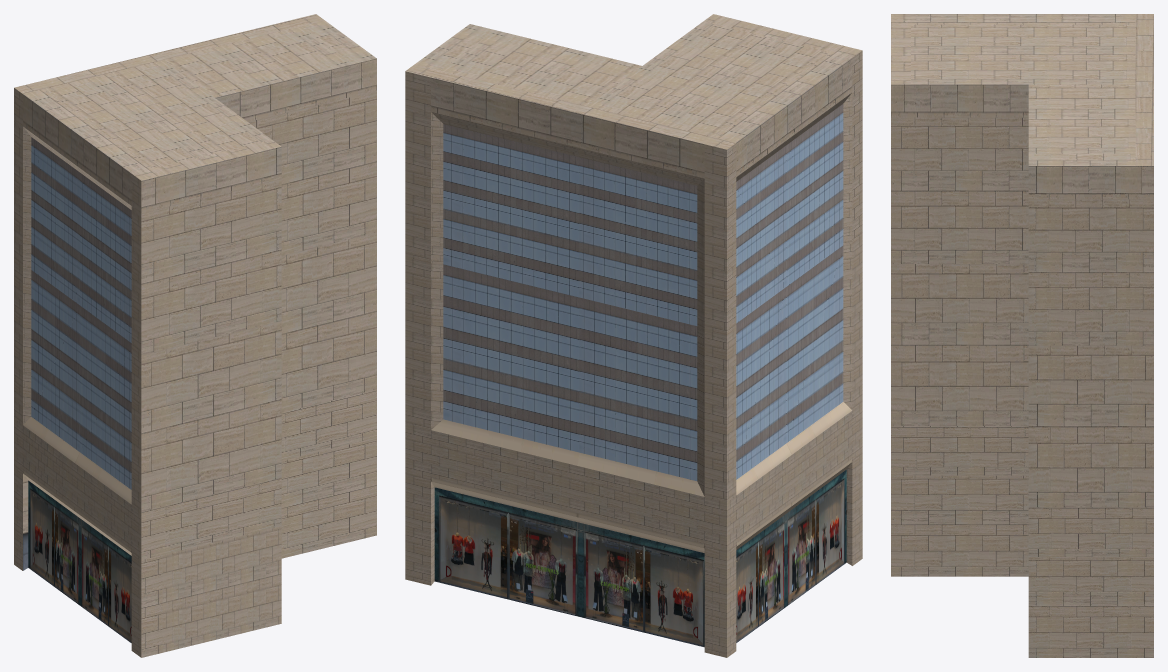
Rendered from Pizza_Delivery house14.fbx.
The picture shows the model from 3 angles, left to right: view 1: azimuth 30°, elevation 25°; view 2: azimuth 150°, elevation 25°; view 3: azimuth 270°, elevation 25°; orthographic projection. The views are drawn at different scales.
Visible parts, largest first — view 1: Pizza_Delivery:Pizza_Delivery:house14; view 2: Pizza_Delivery:Pizza_Delivery:house14; view 3: Pizza_Delivery:Pizza_Delivery:house14.
Part boxes in pixels (bbox=[...]): Pizza_Delivery:Pizza_Delivery:house14: bbox=[14, 14, 376, 657]; Pizza_Delivery:Pizza_Delivery:house14: bbox=[405, 14, 862, 657]; Pizza_Delivery:Pizza_Delivery:house14: bbox=[891, 14, 1153, 657].
Bounding box in the file's own units: 12.99 × 19.6 × 9.49.
